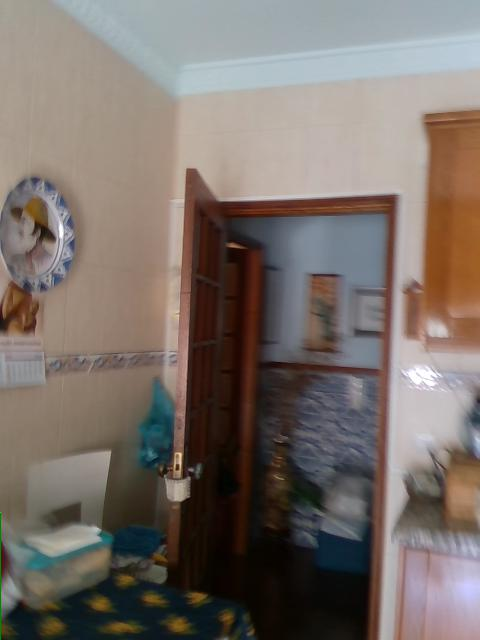door: (157, 168, 227, 572)
